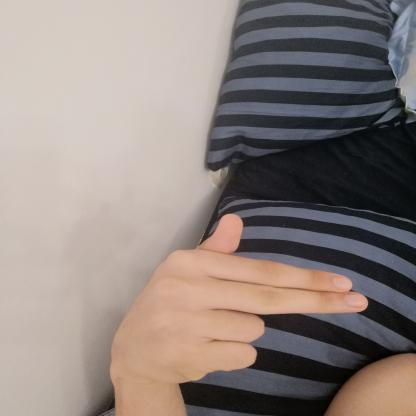GHAYN: (98, 207, 384, 394)
